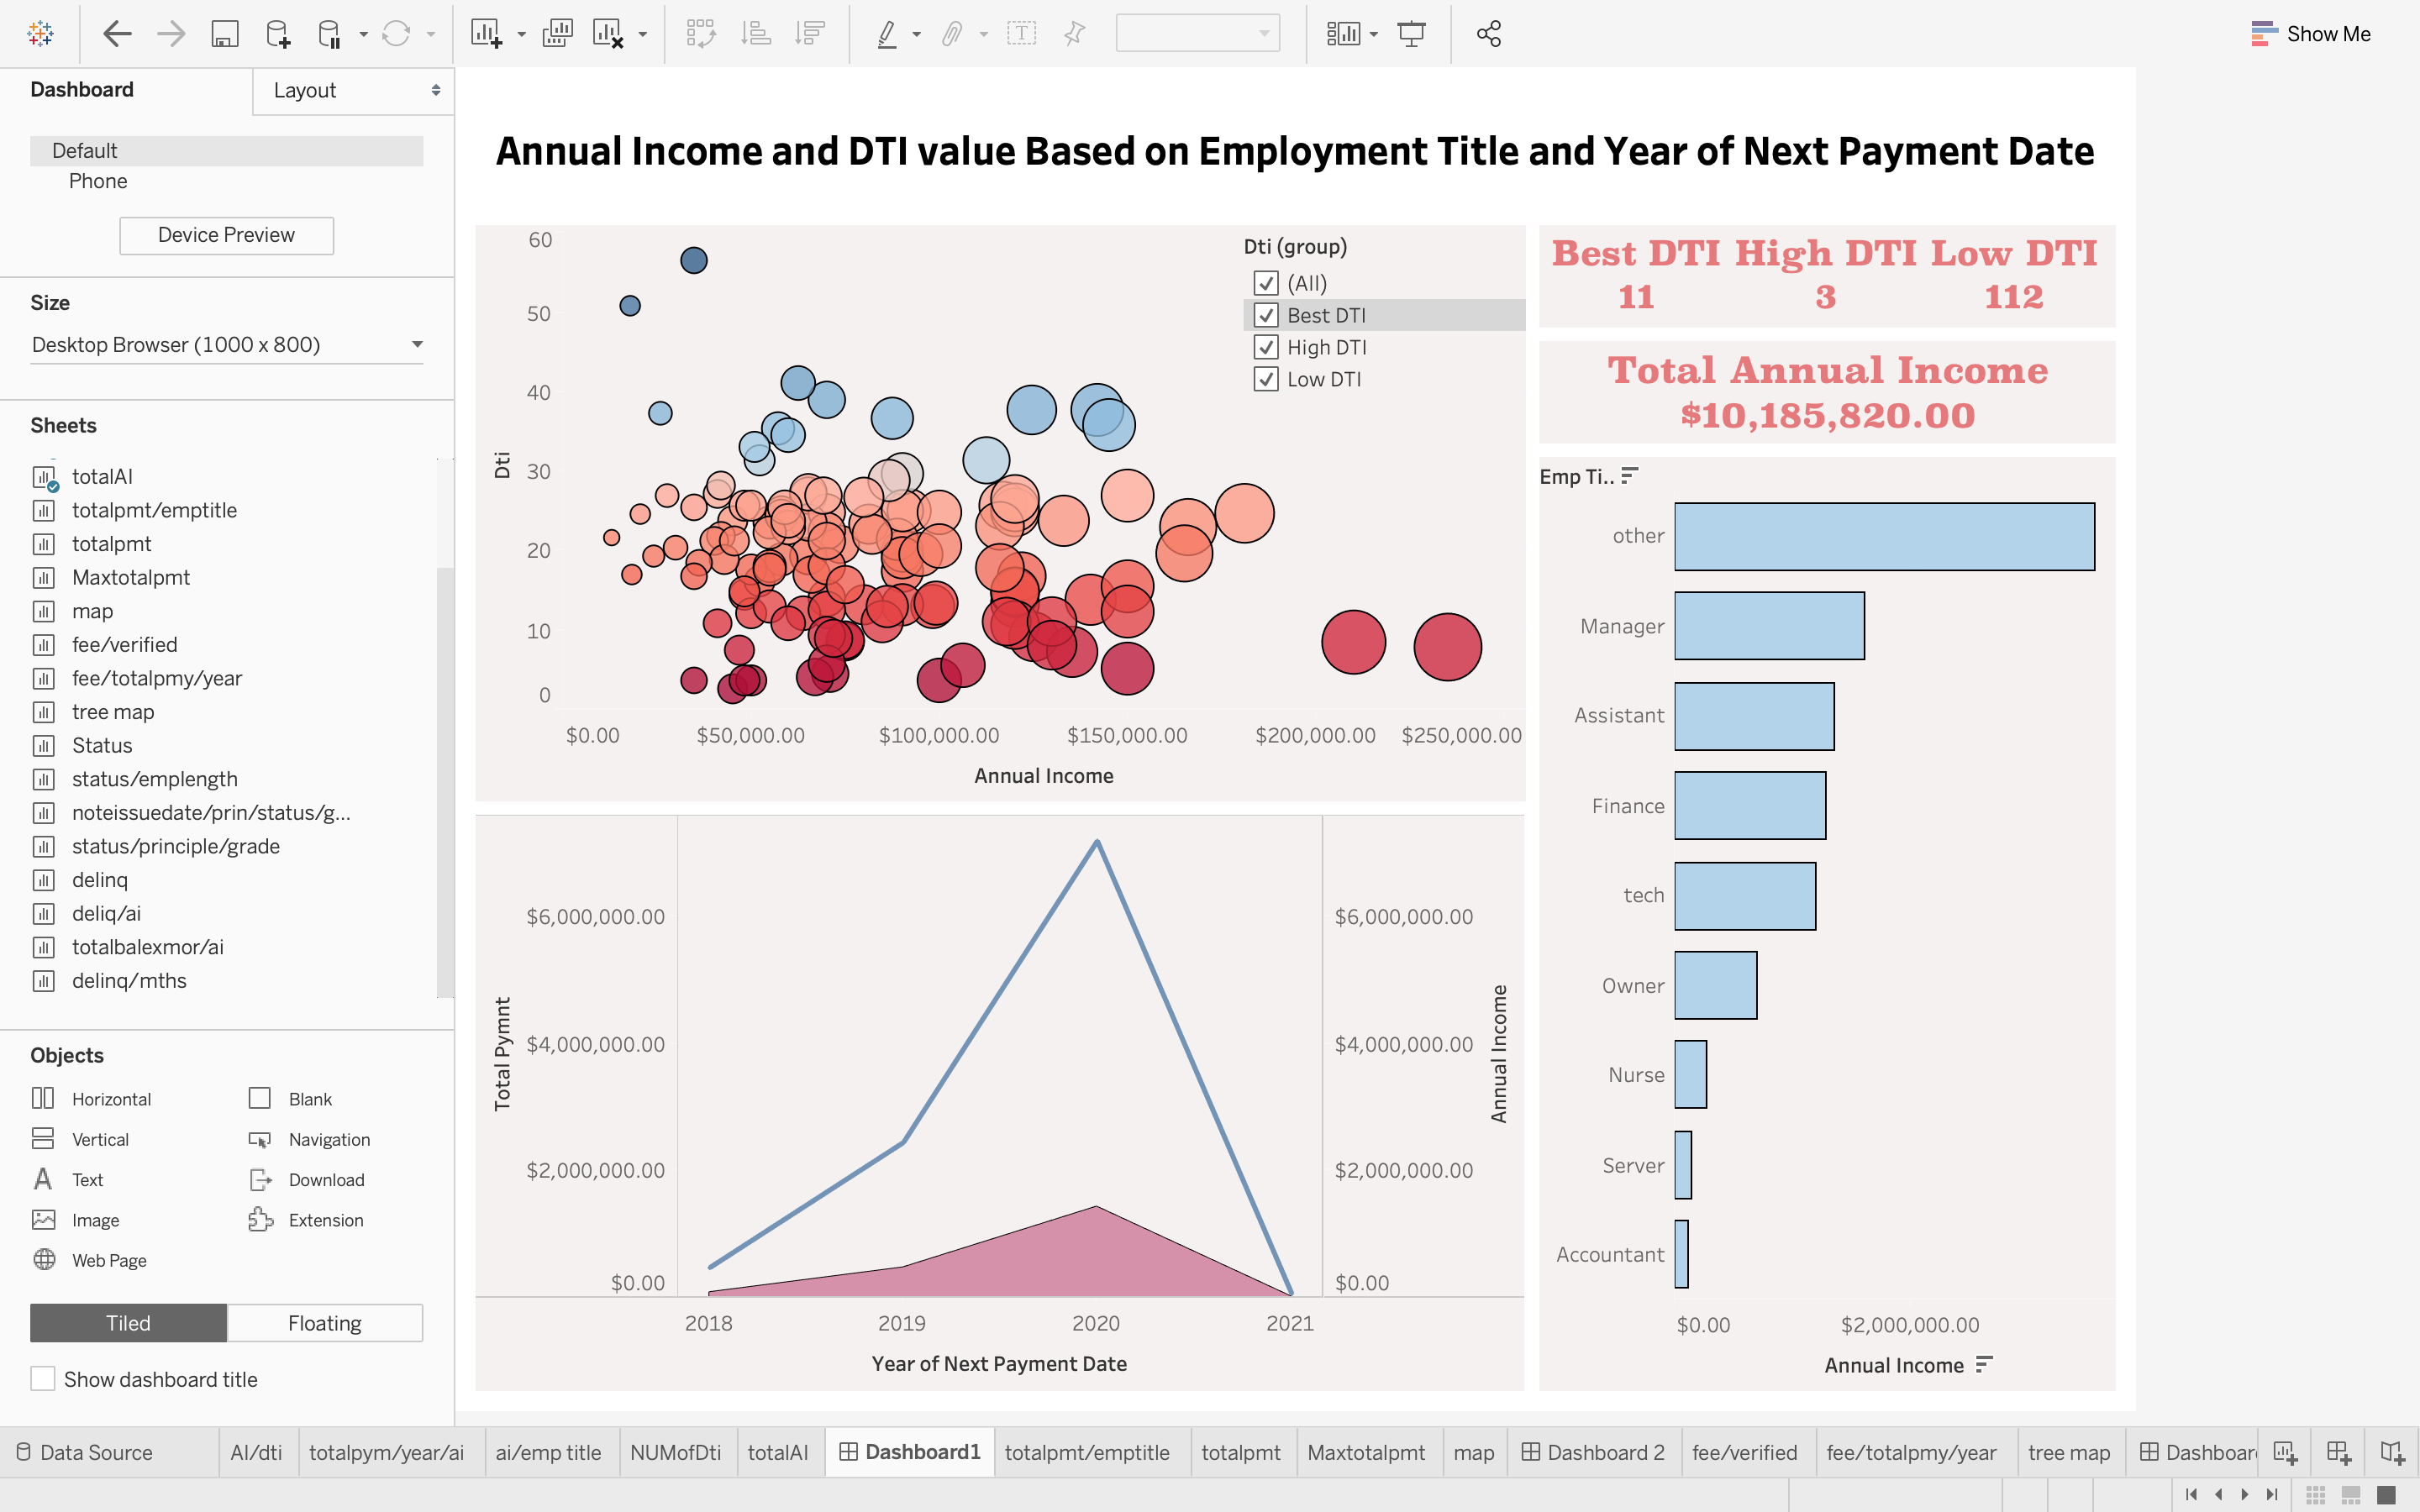

What the dashboard file says about the page in this screenshot:
{"tool":"tableau","page":{"name":"Dashboard1","canvas":[1000,800],"ordinal":4},"visuals":[{"type":"worksheet","box":[0,0,1000,800]},{"type":"worksheet","box":[8,8,984,82]},{"type":"worksheet","param":"horz","box":[8,90,984,702]},{"type":"worksheet","param":"horz","box":[8,90,984,702]},{"type":"worksheet","box":[8,90,984,702]},{"type":"worksheet","param":"horz","box":[8,90,633,702]},{"type":"worksheet","box":[8,90,633,702]},{"type":"worksheet","title":"AI/dti","mark":"Circle","rows":["dti"],"cols":["annual_income"],"box":[8,90,633,351]},{"type":"worksheet","title":"NUMofDti","mark":"Automatic","box":[641,90,351,68.9]},{"type":"worksheet","title":"AI/dti","mark":"Circle","rows":["dti"],"cols":["annual_income"],"param":"[federated.1r03xfe1tay67917j0ytv04nyqhp].[Dti (group)]","box":[469,98,168,108]},{"type":"worksheet","title":"totalAI","mark":"Automatic","box":[641,158.9,351,69]},{"type":"worksheet","title":"ai/emp title","mark":"Automatic","cols":["annual_income"],"box":[641,227.9,351,564.1]},{"type":"worksheet","title":"totalpym/year/ai","mark":"Automatic","rows":["total_pymnt","annual_income"],"cols":["NextPaymentDate"],"box":[8,441,633,351]}]}

Visuals, with their boxes on the page's 1000x800 design canvas (x1, y1, x2, y2). These are canvas units, not pixel positions in the 2420x1512 screenshot, which may show the page scaled, cropped or inside an application window:
worksheet: [left=0, top=0, right=1000, bottom=800]
worksheet: [left=8, top=8, right=992, bottom=90]
worksheet: [left=8, top=90, right=992, bottom=792]
worksheet: [left=8, top=90, right=992, bottom=792]
worksheet: [left=8, top=90, right=992, bottom=792]
worksheet: [left=8, top=90, right=641, bottom=792]
worksheet: [left=8, top=90, right=641, bottom=792]
"AI/dti" worksheet (Circle marks): [left=8, top=90, right=641, bottom=441]
"NUMofDti" worksheet: [left=641, top=90, right=992, bottom=159]
"AI/dti" worksheet (Circle marks): [left=469, top=98, right=637, bottom=206]
"totalAI" worksheet: [left=641, top=159, right=992, bottom=228]
"ai/emp title" worksheet: [left=641, top=228, right=992, bottom=792]
"totalpym/year/ai" worksheet: [left=8, top=441, right=641, bottom=792]
